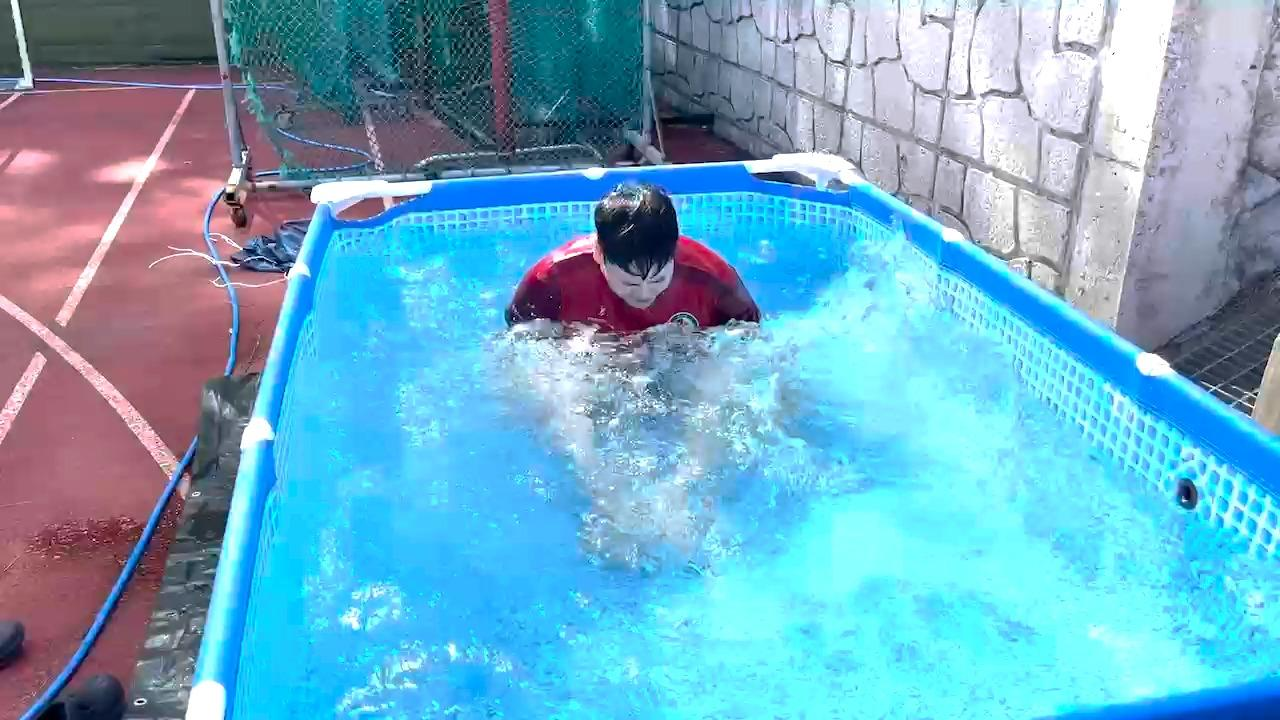Drowning: (503, 189, 796, 578)
